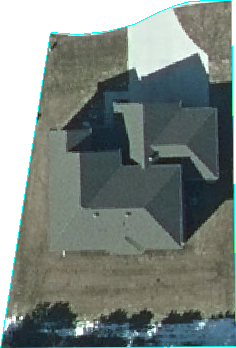house: (47, 99, 222, 256)
